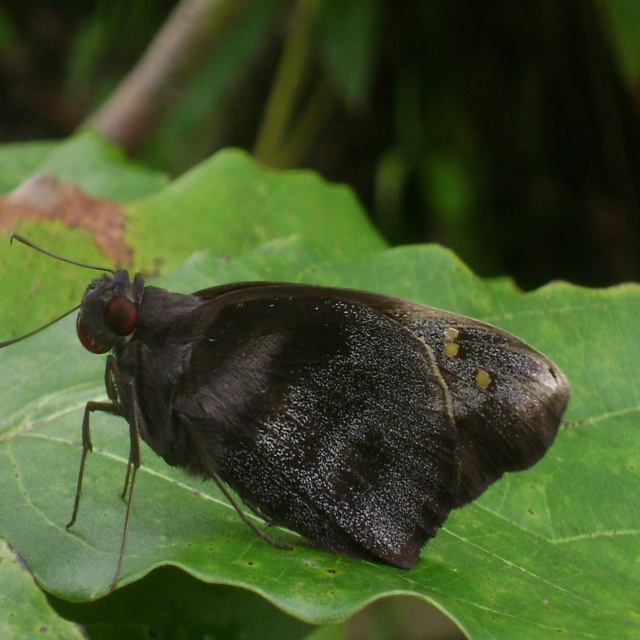Moths and butterflies: (0, 232, 570, 591)
